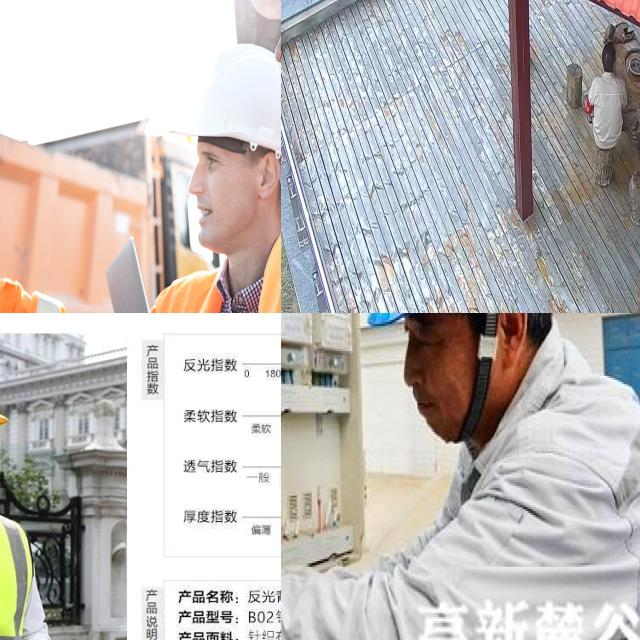No_Ear-Protection: (494, 313, 538, 367), (256, 148, 281, 206)
No_Glasses: (184, 140, 240, 181), (399, 314, 452, 351)
face_nomask: (184, 141, 256, 248), (405, 342, 477, 442)
glasses: (274, 0, 281, 41)
head_helmet: (173, 25, 281, 170)
person: (80, 0, 281, 313)
vest: (0, 227, 256, 313)
